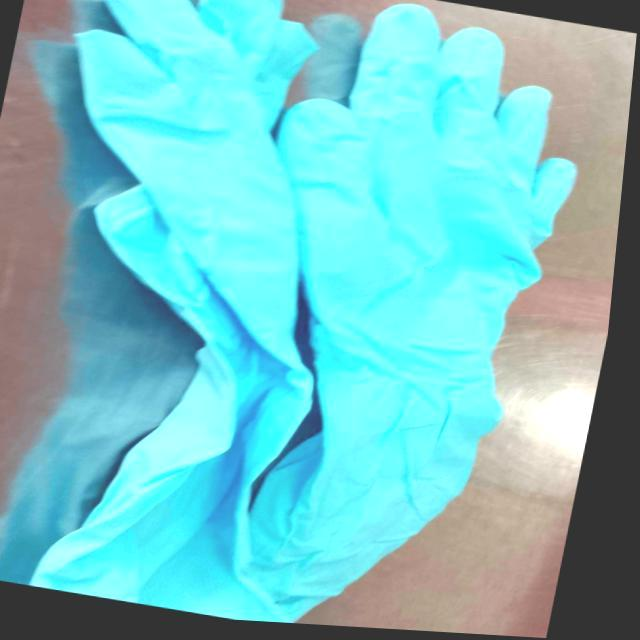General: (11, 0, 580, 622)
